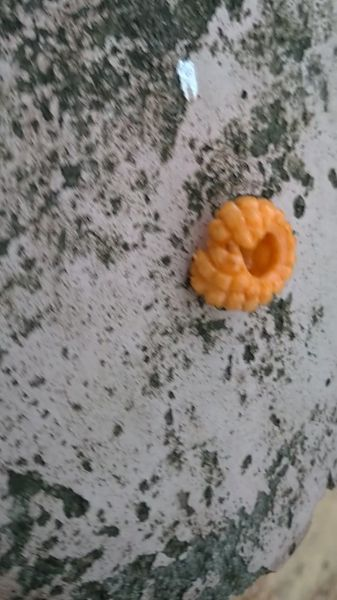eggs: (177, 186, 308, 314)
